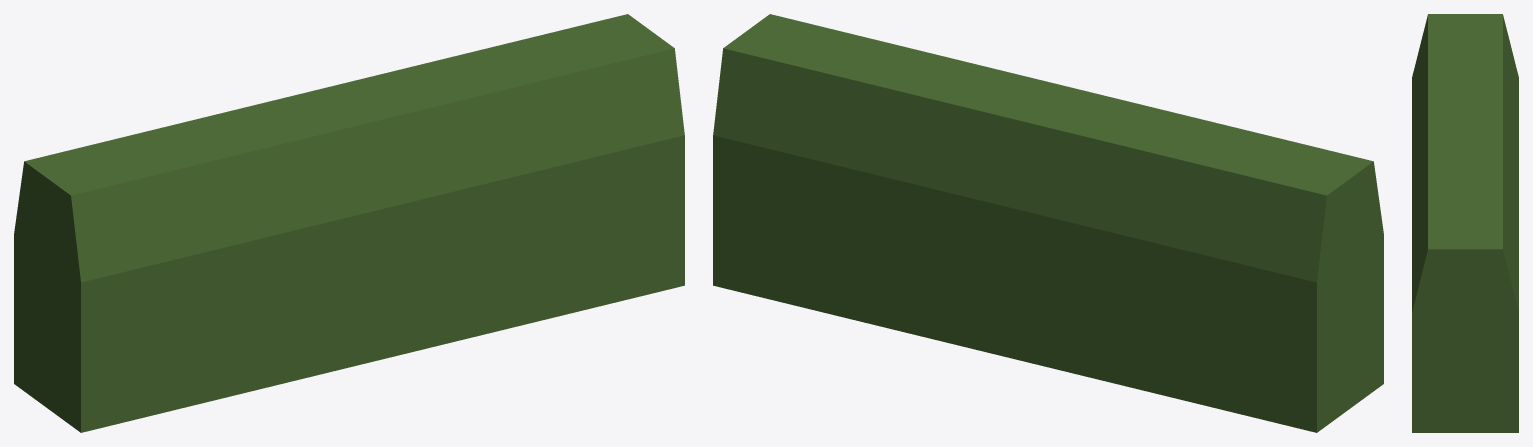
3 renders of one model, left to right at view 1: azimuth 30°, elevation 25°; view 2: azimuth 150°, elevation 25°; view 3: azimuth 270°, elevation 25°, orthographic. The views are drawn at different scales.
Visible parts, largest first — view 1: Живая изгородь · высокая; view 2: Живая изгородь · высокая; view 3: Живая изгородь · высокая.
Part boxes in pixels (left/top/right/bottom): Живая изгородь · высокая: left=14, top=14, right=684, bottom=432; Живая изгородь · высокая: left=713, top=14, right=1383, bottom=432; Живая изгородь · высокая: left=1412, top=14, right=1518, bottom=432.
Bounding box in the file's own units: 5 × 1.82 × 0.96.
